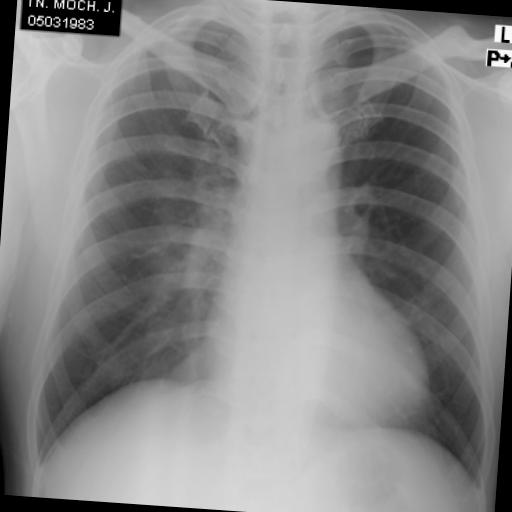kardiomegali: (194, 229, 449, 440)
